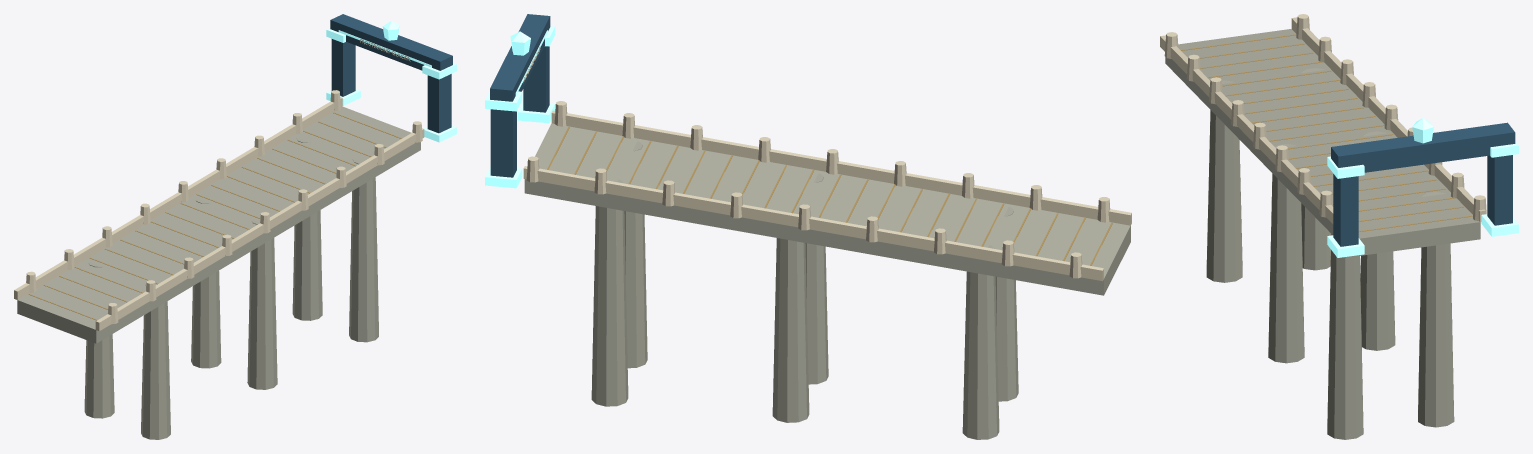
Rendered from Branch_FrostboundGlacier.glb.
The picture shows the model from 3 angles, left to right: view 1: azimuth 30°, elevation 25°; view 2: azimuth 150°, elevation 25°; view 3: azimuth 270°, elevation 25°; orthographic projection. The views are drawn at different scales.
Parts seen in each view (by area): view 1: Branch_FrostboundGlacier_Sanctuary limestone_2_0, Branch_FrostboundGlacier_Warm ivory_2_0, Branch_FrostboundGlacier_Sanctuary limestone_1_0, Branch_FrostboundGlacier_FrostboundGlacier_dark_2_0, Branch_FrostboundGlacier_Warm ivory_1_0, Branch_FrostboundGlacier_Aged gold_2_0, Branch_FrostboundGlacier_FrostboundGlacier_dark_2_1, Branch_FrostboundGlacier_FrostboundGlacier_accent_2_0, Branch_FrostboundGlacier_Aged gold_1_0; view 2: Branch_FrostboundGlacier_Sanctuary limestone_2_0, Branch_FrostboundGlacier_Warm ivory_2_0, Branch_FrostboundGlacier_Sanctuary limestone_1_0, Branch_FrostboundGlacier_FrostboundGlacier_dark_2_0, Branch_FrostboundGlacier_Warm ivory_1_0, Branch_FrostboundGlacier_FrostboundGlacier_dark_2_1, Branch_FrostboundGlacier_Aged gold_2_0, Branch_FrostboundGlacier_FrostboundGlacier_accent_2_0, Branch_FrostboundGlacier_FrostboundGlacier_accent_2_1, Branch_FrostboundGlacier_Aged gold_1_0; view 3: Branch_FrostboundGlacier_Sanctuary limestone_2_0, Branch_FrostboundGlacier_Sanctuary limestone_1_0, Branch_FrostboundGlacier_FrostboundGlacier_dark_2_0, Branch_FrostboundGlacier_Warm ivory_2_0, Branch_FrostboundGlacier_Warm ivory_1_0, Branch_FrostboundGlacier_FrostboundGlacier_dark_2_1, Branch_FrostboundGlacier_Aged gold_1_0, Branch_FrostboundGlacier_Aged gold_2_0, Branch_FrostboundGlacier_FrostboundGlacier_accent_2_0, Branch_FrostboundGlacier_FrostboundGlacier_accent_2_1.
Part boxes in pixels (left/top/right/bottom): Branch_FrostboundGlacier_Sanctuary limestone_2_0: left=17, top=106, right=420, bottom=389; Branch_FrostboundGlacier_Warm ivory_2_0: left=14, top=39, right=424, bottom=331; Branch_FrostboundGlacier_Sanctuary limestone_1_0: left=84, top=261, right=170, bottom=439; Branch_FrostboundGlacier_FrostboundGlacier_dark_2_0: left=330, top=14, right=452, bottom=133; Branch_FrostboundGlacier_Warm ivory_1_0: left=26, top=203, right=194, bottom=324; Branch_FrostboundGlacier_Aged gold_2_0: left=165, top=112, right=401, bottom=238; Branch_FrostboundGlacier_FrostboundGlacier_dark_2_1: left=331, top=39, right=355, bottom=96; Branch_FrostboundGlacier_FrostboundGlacier_accent_2_0: left=338, top=21, right=456, bottom=142; Branch_FrostboundGlacier_Aged gold_1_0: left=28, top=221, right=219, bottom=320; Branch_FrostboundGlacier_Sanctuary limestone_2_0: left=524, top=123, right=1130, bottom=422; Branch_FrostboundGlacier_Warm ivory_2_0: left=523, top=46, right=1131, bottom=281; Branch_FrostboundGlacier_Sanctuary limestone_1_0: left=962, top=207, right=1018, bottom=439; Branch_FrostboundGlacier_FrostboundGlacier_dark_2_0: left=490, top=14, right=550, bottom=112; Branch_FrostboundGlacier_Warm ivory_1_0: left=866, top=173, right=1110, bottom=278; Branch_FrostboundGlacier_FrostboundGlacier_dark_2_1: left=490, top=109, right=516, bottom=177; Branch_FrostboundGlacier_Aged gold_2_0: left=547, top=126, right=868, bottom=222; Branch_FrostboundGlacier_FrostboundGlacier_accent_2_0: left=510, top=26, right=555, bottom=123; Branch_FrostboundGlacier_FrostboundGlacier_accent_2_1: left=485, top=91, right=522, bottom=188; Branch_FrostboundGlacier_Aged gold_1_0: left=877, top=184, right=1112, bottom=265; Branch_FrostboundGlacier_Sanctuary limestone_2_0: left=1165, top=29, right=1480, bottom=439; Branch_FrostboundGlacier_Sanctuary limestone_1_0: left=1206, top=68, right=1331, bottom=282; Branch_FrostboundGlacier_FrostboundGlacier_dark_2_0: left=1331, top=122, right=1515, bottom=246; Branch_FrostboundGlacier_Warm ivory_2_0: left=1160, top=17, right=1486, bottom=224; Branch_FrostboundGlacier_Warm ivory_1_0: left=1164, top=14, right=1375, bottom=107; Branch_FrostboundGlacier_FrostboundGlacier_dark_2_1: left=1487, top=155, right=1512, bottom=225; Branch_FrostboundGlacier_Aged gold_1_0: left=1180, top=34, right=1366, bottom=123; Branch_FrostboundGlacier_Aged gold_2_0: left=1266, top=116, right=1472, bottom=231; Branch_FrostboundGlacier_FrostboundGlacier_accent_2_0: left=1327, top=118, right=1433, bottom=257; Branch_FrostboundGlacier_FrostboundGlacier_accent_2_1: left=1481, top=141, right=1518, bottom=236.
Bounding box in the file's own units: 140 × 81 × 75.3.
